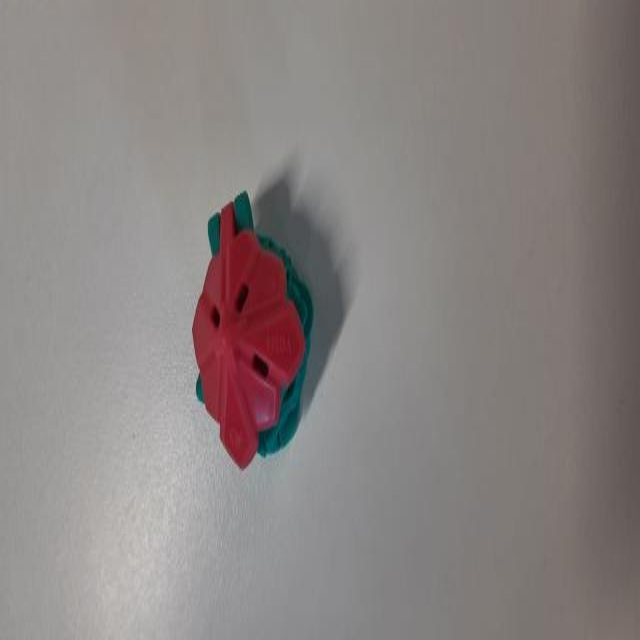House: (182, 183, 326, 515)
